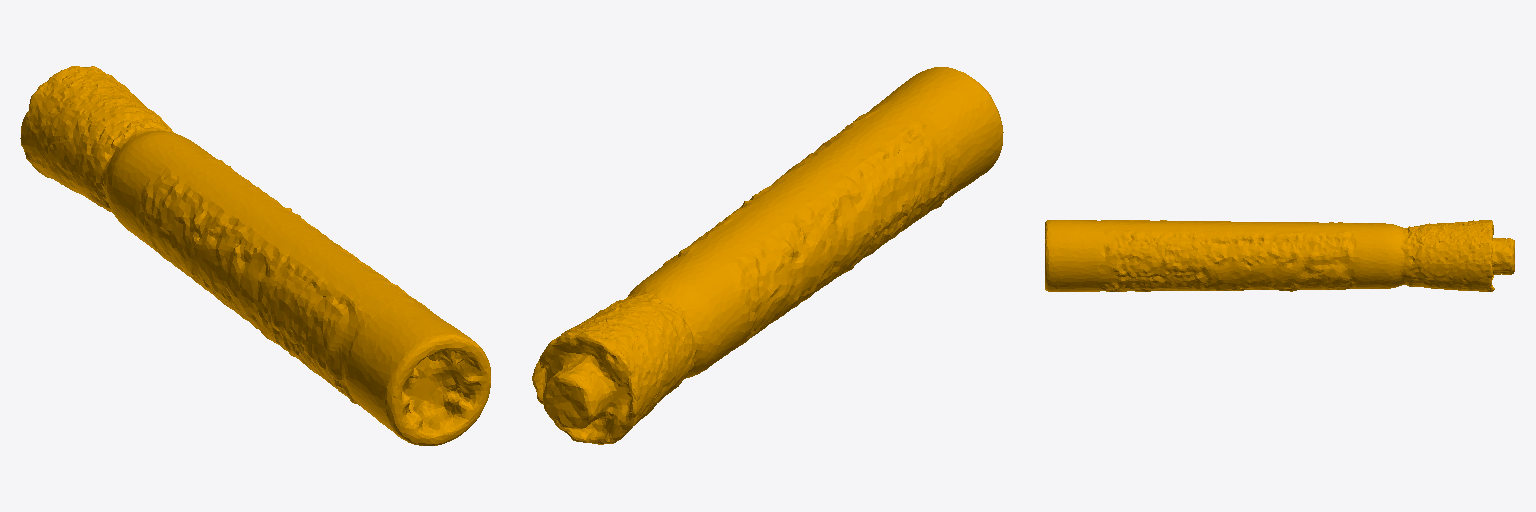
The robot description file, URDF, robot "root":
<robot name="root">
  <link name="link_original">
    <visual>
      <origin xyz="0 0 0" rpy="0 0 0"/>
      <geometry>
        <mesh filename="textured.obj" scale="1.0000E+00 1.0000E+00 1.0000E+00"/>
      </geometry>
    </visual>
    <inertial>
      <origin xyz="0 0 0" rpy="0 0 0"/>
      <mass value="2.7400E-02"/>
      <inertia ixx="3.10E-05" ixy="-6.79E-08" ixz="-2.07E-09" iyy="1.06E-06" iyz="-1.60E-08" izz="3.10E-05"/>
    </inertial>
    <collision>
      <origin xyz="0 0 0" rpy="0 0 0"/>
      <geometry>
        <mesh filename="coacd_allinone.obj" scale="1.0000E+00 1.0000E+00 1.0000E+00"/>
      </geometry>
    </collision>
  </link>
</robot>

--- Facts derived from the render (not from the file) ---
The picture shows the robot from 3 angles, left to right: view 1: azimuth 30°, elevation 25°; view 2: azimuth 150°, elevation 25°; view 3: azimuth 270°, elevation 25°; orthographic projection.
Robot: root — 1 links, 0 joints (none); root link link_original; default pose: every joint at zero.
Visible links, largest first — view 1: link_original; view 2: link_original; view 3: link_original.
Link boxes in pixels (box(x1,y1,x2,y2)): link_original: box(20, 66, 490, 445); link_original: box(532, 67, 1003, 444); link_original: box(1045, 220, 1514, 291).
Bounding box of the posed robot: 0.0192 × 0.1209 × 0.0189 m (x, y, z).
1 mesh visuals loaded from 1 distinct referenced files (1 OBJ).
